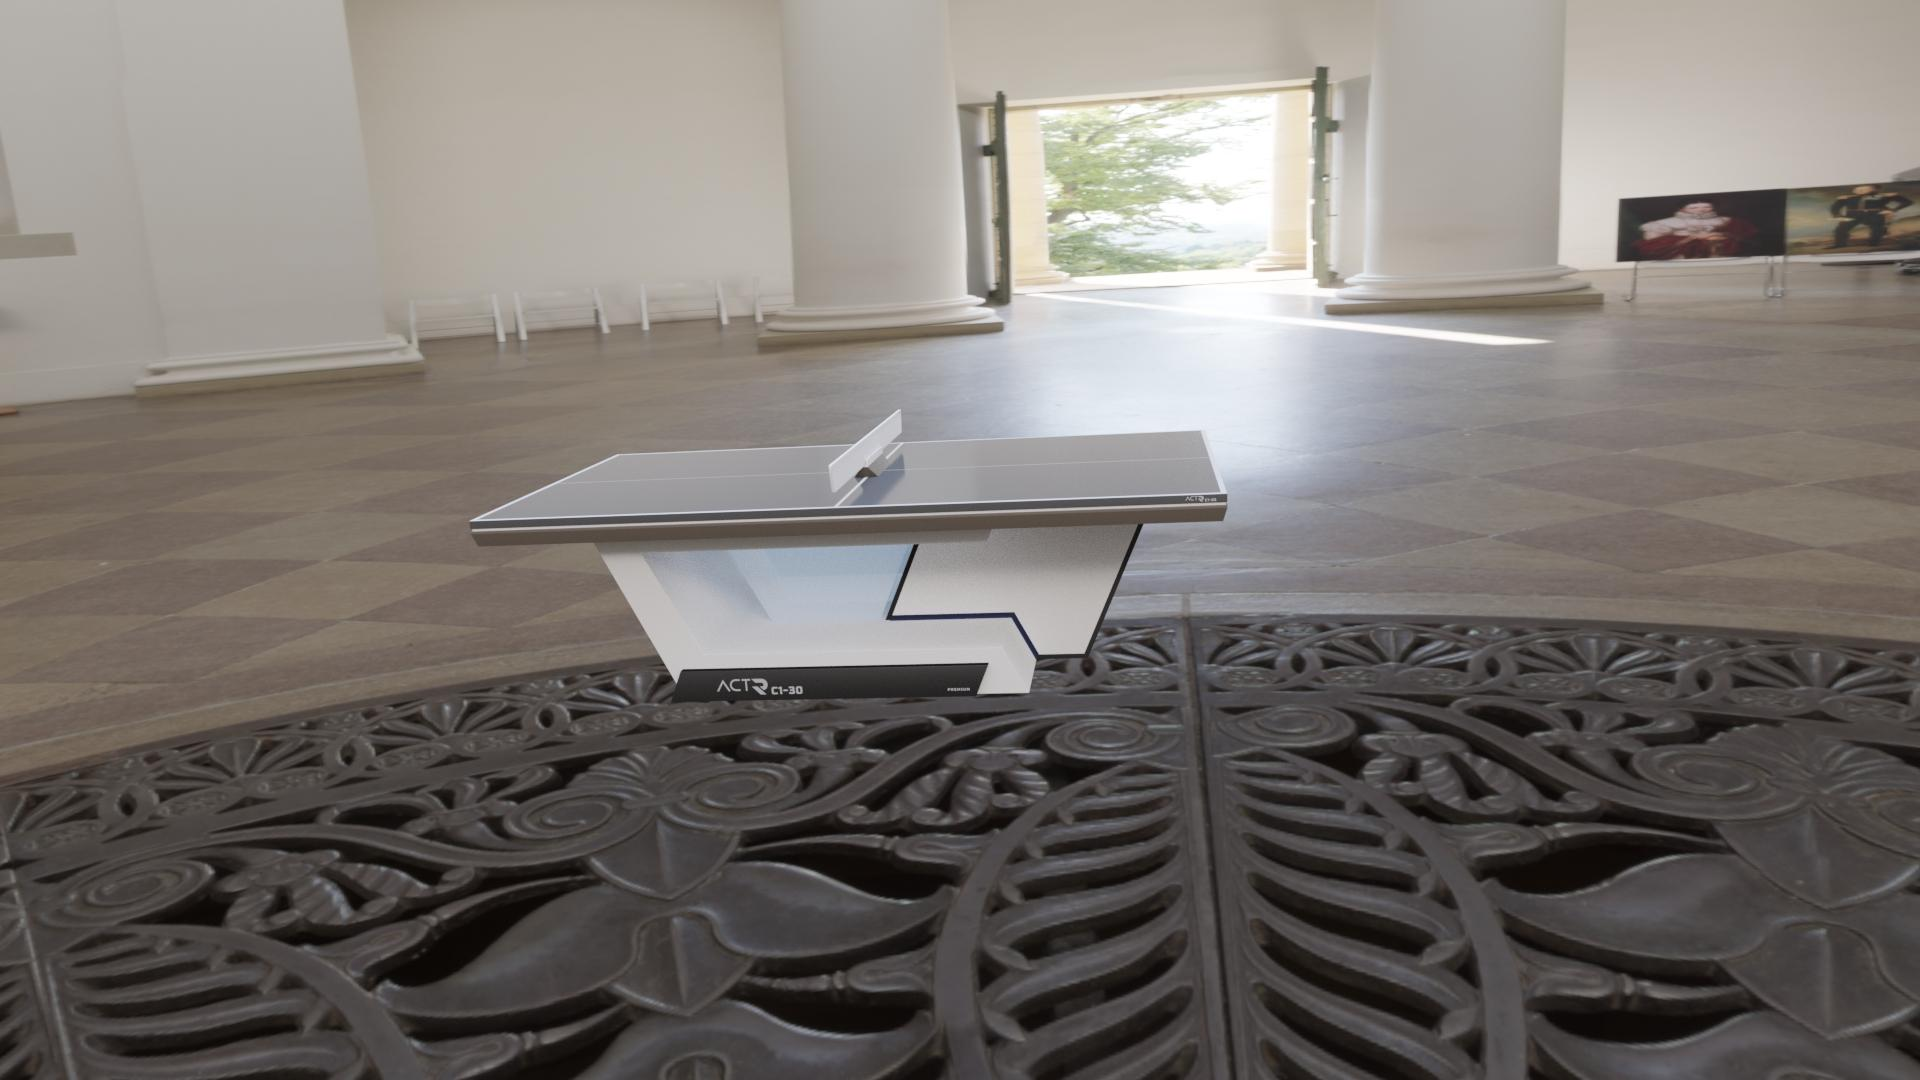table: (476, 430, 1221, 520)
